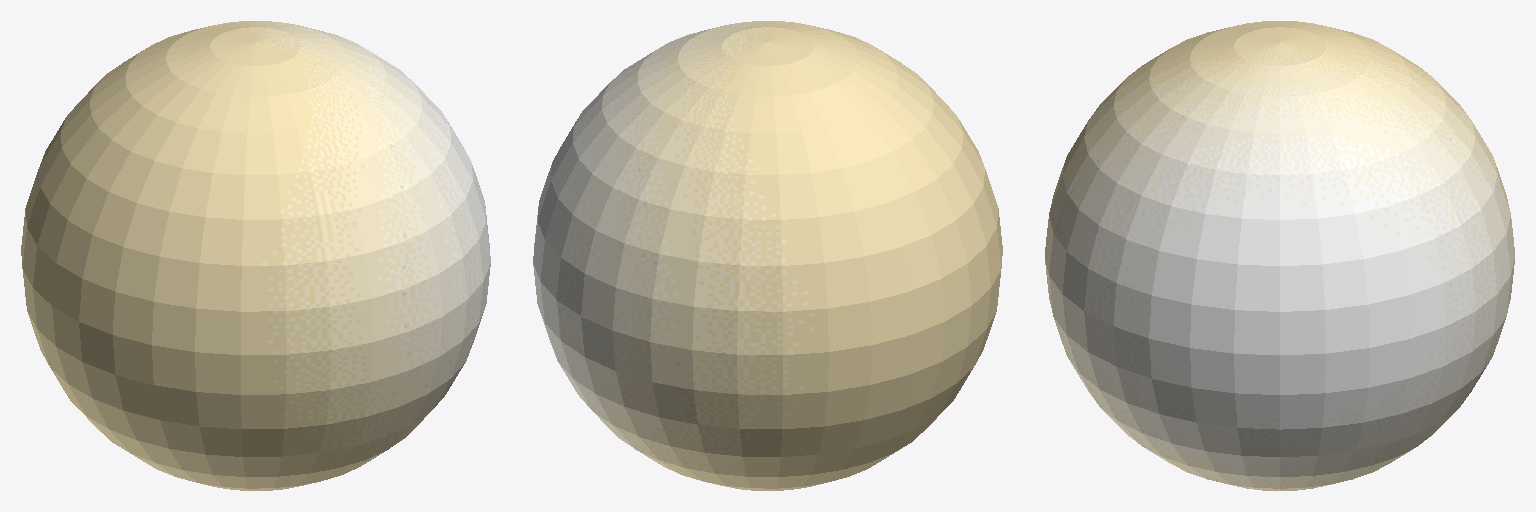
3 views of the same model, side by side, from view 1: azimuth 30°, elevation 25°; view 2: azimuth 150°, elevation 25°; view 3: azimuth 270°, elevation 25° (orthographic).
Parts seen in each view (by area): view 1: Sphere; view 2: Sphere; view 3: Sphere.
Part boxes in pixels (bbox=[...]): Sphere: bbox=[21, 21, 490, 490]; Sphere: bbox=[533, 21, 1002, 490]; Sphere: bbox=[1045, 21, 1514, 490].
Bounding box in the file's own units: 2 × 2 × 2.
Materials: 1 (1 with a texture image).